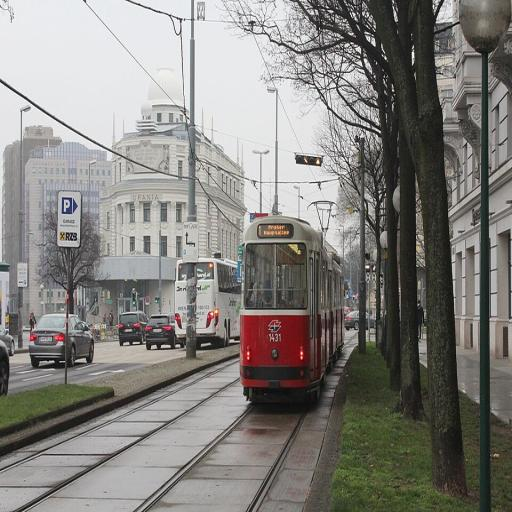E2-Tram: (238, 210, 347, 412)
